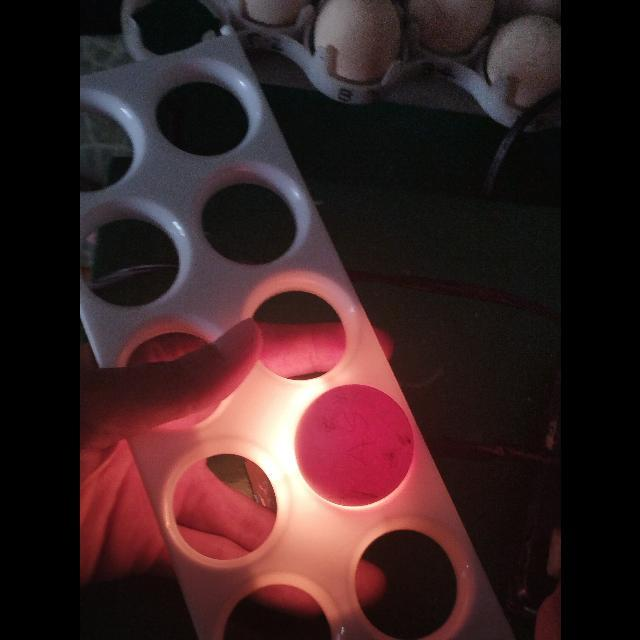Infertile: (292, 382, 418, 510)
